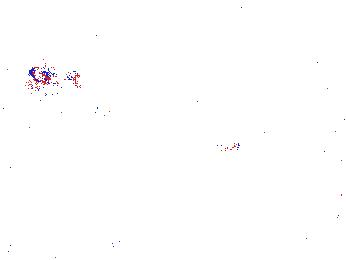red belly glassfish: (31, 65, 78, 88), (193, 137, 242, 157)
redtail glassfish: (26, 82, 116, 132)
